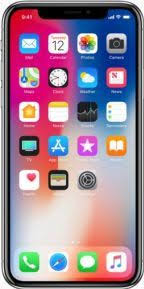iphone: (1, 1, 144, 289)
iphone10: (1, 1, 144, 289)
